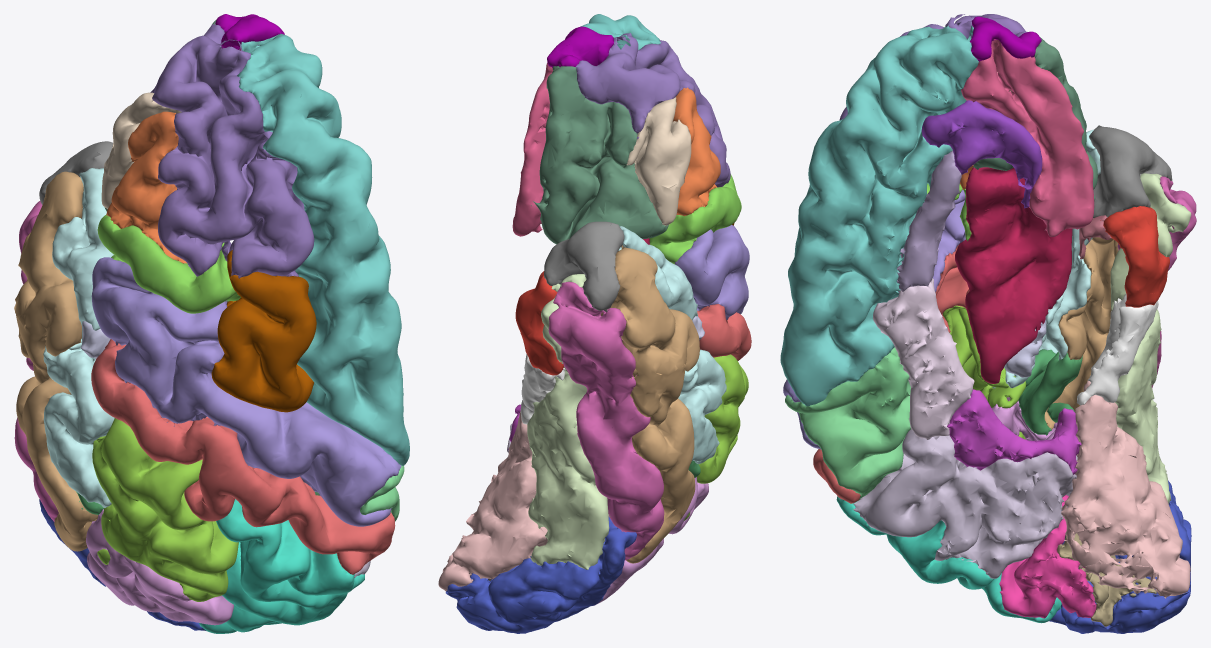
Rendered from cortex-left.glb.
The picture shows the model from 3 angles, left to right: view 1: azimuth 30°, elevation 25°; view 2: azimuth 150°, elevation 25°; view 3: azimuth 270°, elevation 25°; orthographic projection. The views are drawn at different scales.
Parts seen in each view (by area): view 1: spl-1028, spl-1027, spl-1024, spl-1022, spl-1031, spl-1015, spl-1003, spl-1030, spl-1029, spl-1018, spl-1008, spl-1020 (+7 smaller); view 2: spl-1009, spl-1012, spl-1015, spl-1007, spl-1011, spl-1013, spl-1027, spl-1030, spl-1019, spl-1024, spl-1033, spl-1014 (+9 smaller); view 3: spl-1028, spl-1025, spl-1013, spl-1000, spl-1014, spl-1017, spl-1023, spl-1007, spl-1026, spl-1005, spl-1010, spl-1015 (+19 smaller).
Part boxes in pixels (x1,y1,x2,y2): spl-1028: (237,33,409,465); spl-1027: (150,24,314,278); spl-1024: (91,257,401,526); spl-1022: (91,339,395,574); spl-1031: (92,418,238,601); spl-1015: (14,171,98,551); spl-1003: (211,250,316,412); spl-1030: (43,168,114,507); spl-1029: (199,499,364,633); spl-1018: (97,215,240,313); spl-1008: (86,509,233,625); spl-1020: (106,111,186,263); spl-1009: (548,281,664,560); spl-1012: (531,66,668,244); spl-1015: (601,245,699,563); spl-1007: (527,274,610,569); spl-1011: (445,516,636,633); spl-1013: (438,411,547,590); spl-1027: (575,33,730,187); spl-1030: (618,226,726,464); spl-1019: (626,97,691,225); spl-1024: (674,225,749,319); spl-1033: (544,221,624,311); spl-1014: (512,63,552,236); spl-1028: (780,25,978,406); spl-1025: (853,429,1077,578); spl-1013: (1061,380,1190,598); spl-1000: (955,167,1072,383); spl-1014: (961,39,1094,236); spl-1017: (785,347,911,503); spl-1023: (873,278,974,439); spl-1007: (1110,173,1191,503); spl-1026: (921,100,1042,208); spl-1005: (999,495,1096,618); spl-1010: (947,389,1081,474); spl-1015: (1044,237,1118,429).
Size of the model in its own units: 71.04 by 178 by 112.
